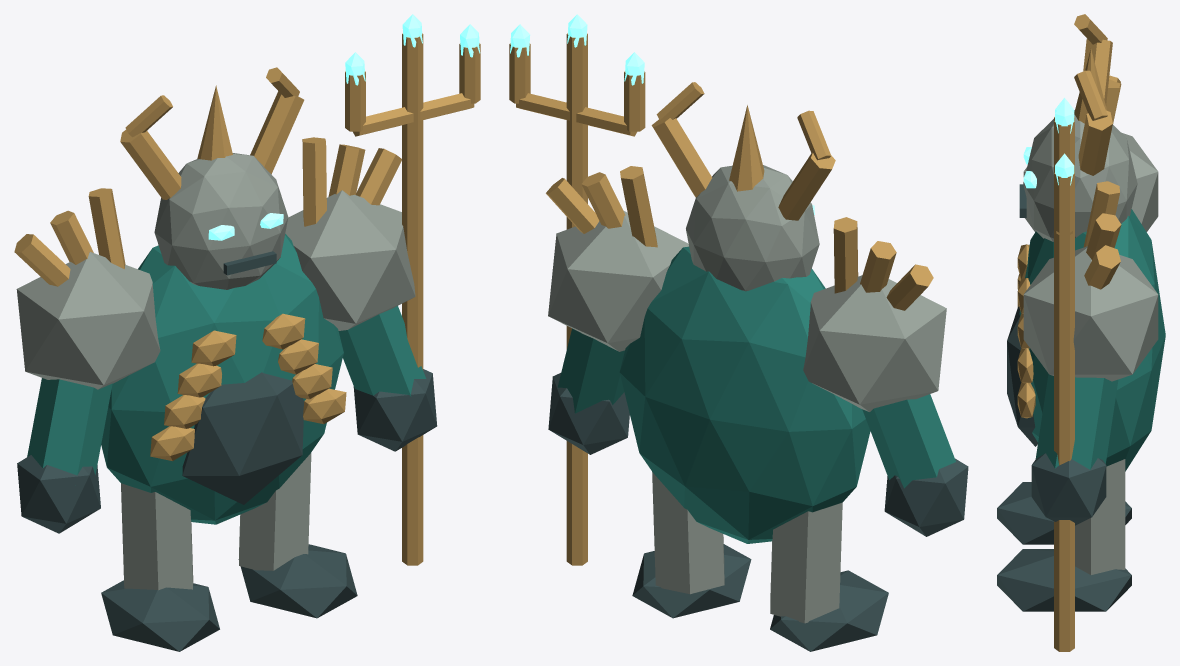
The model's file is penjaga-palung.glb.
3 views of the same model, side by side, from view 1: azimuth 30°, elevation 25°; view 2: azimuth 150°, elevation 25°; view 3: azimuth 270°, elevation 25° (orthographic).
Visible parts, largest first — view 1: Penjaga_Palung; view 2: Penjaga_Palung; view 3: Penjaga_Palung.
Boxes of the visible parts, x1,y1,x2,y2 form: Penjaga_Palung: (14, 14, 480, 651); Penjaga_Palung: (509, 14, 968, 651); Penjaga_Palung: (997, 14, 1165, 651).
Bounding box in the file's own units: 5.96 × 7.05 × 1.92.
